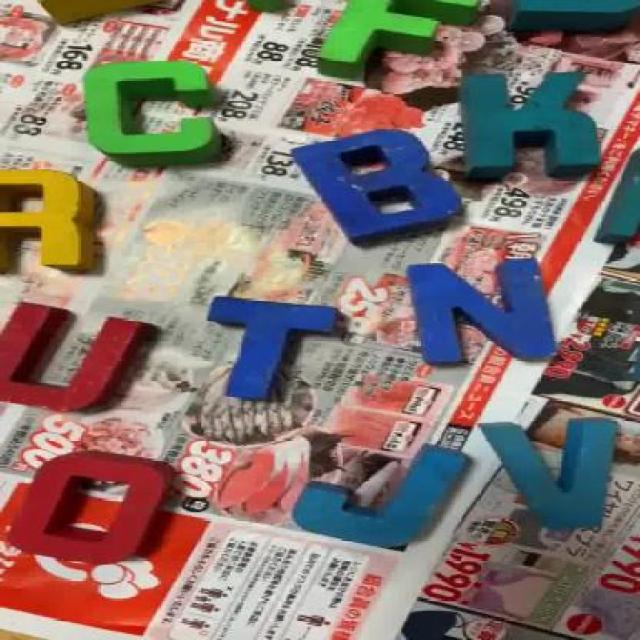B: (300, 134, 465, 235)
C: (84, 60, 222, 154)
J: (297, 443, 468, 548)
K: (457, 73, 603, 176)
N: (409, 258, 565, 362)
O: (17, 449, 174, 557)
T: (200, 296, 335, 395)
U: (0, 299, 143, 413)
V: (492, 421, 619, 530)
